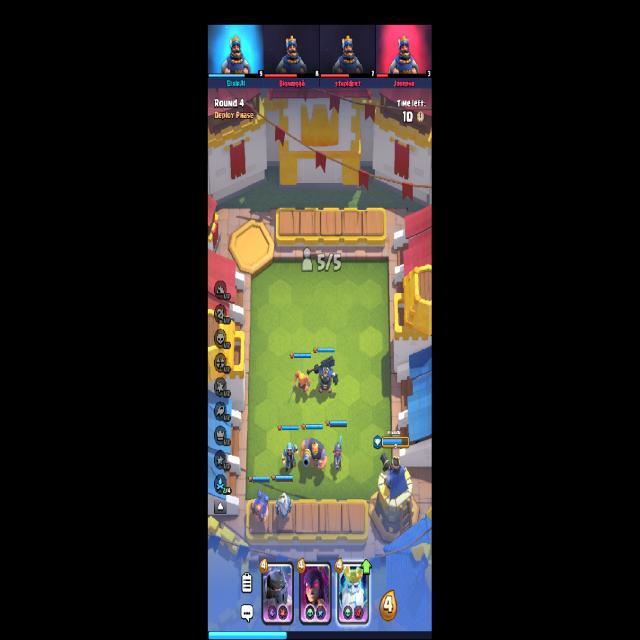barbarian: (288, 371, 312, 404)
card_mega_knight: (261, 562, 295, 626)
card_royal_ghost: (336, 562, 370, 625)
card_witch: (298, 562, 332, 624)
electro_giant: (249, 490, 270, 527)
musketeer: (332, 434, 344, 472)
royal_ghost: (273, 493, 293, 521)
royal_giant: (300, 437, 327, 473)
skeleton_king: (307, 356, 339, 394)
wizard: (282, 442, 300, 473)
